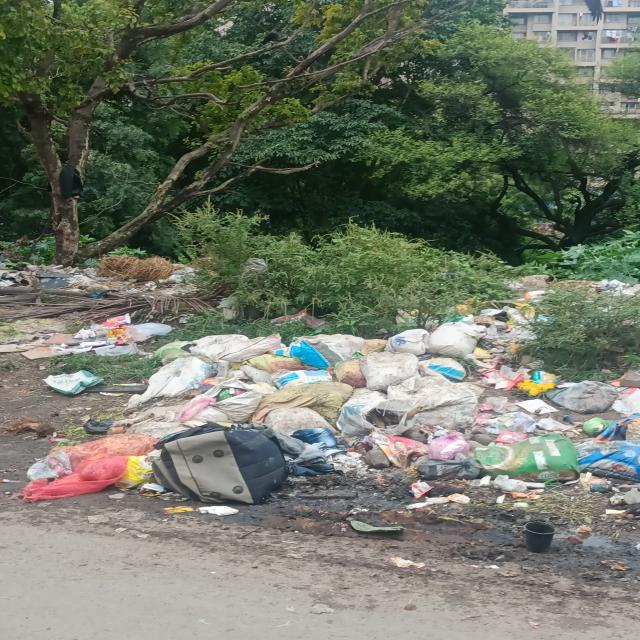garbage: (124, 311, 640, 508), (2, 243, 200, 359)
